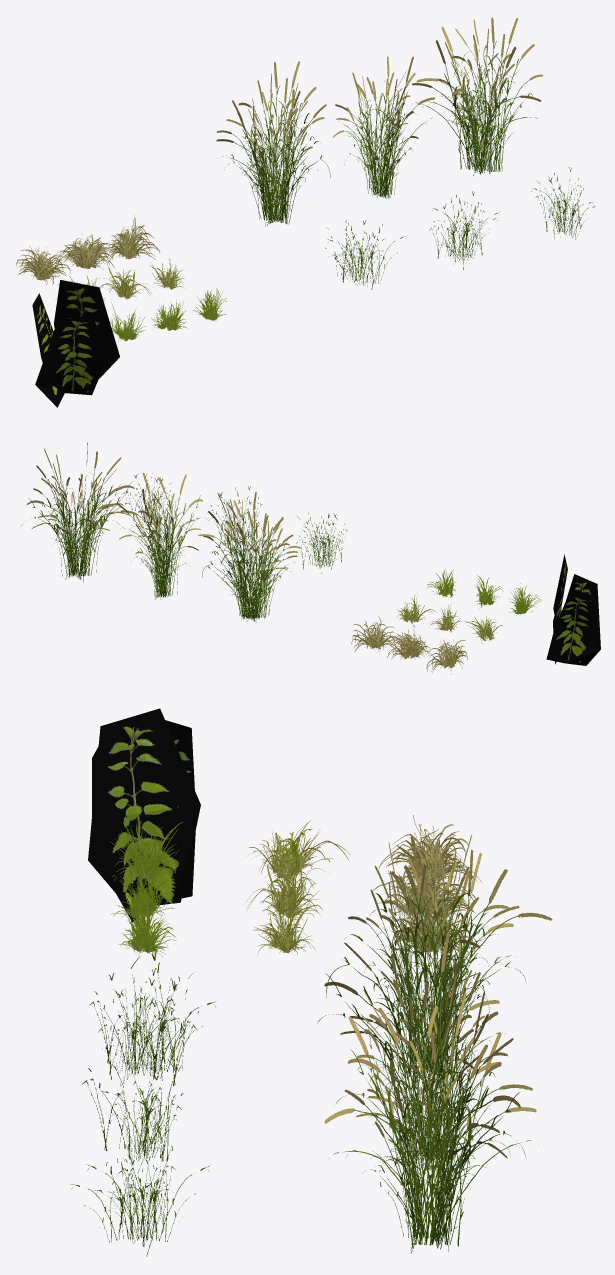
The model's file is grass.fbx.
3 views of the same model, one above another, from view 1: azimuth 30°, elevation 25°; view 2: azimuth 150°, elevation 25°; view 3: azimuth 270°, elevation 25° (orthographic). The views are drawn at different scales.
Visible parts, largest first — view 1: Brennesel, Grass tall high.002, Grass tall high, Grass tall high.001, Grass tall low, Grass main dry.001, Grass tall low.001, Grass main dry.002, Grass main dry, Grass tall low.002, Grass main aged.001, Grass main fresh.001 (+2 smaller); view 2: Grass tall high, Grass tall high.002, Brennesel, Grass tall high.001, Grass tall low, Grass main dry.002, Grass main dry.001, Grass main dry, Grass tall low.001, Grass tall low.002, Grass main fresh, Grass main fresh.001 (+4 smaller); view 3: Brennesel, Grass tall high.002, Grass tall high, Grass tall high.001, Grass tall low, Grass tall low.002, Grass tall low.001, Grass main dry, Grass main fresh, Grass main aged, Grass main dry.001, Grass main aged.001 (+4 smaller).
Part boxes in pixels (box(x1,y1,x2,y2)): Brennesel: box(32, 280, 119, 407); Grass tall high.002: box(412, 17, 542, 175); Grass tall high: box(216, 61, 330, 226); Grass tall high.001: box(332, 56, 434, 198); Grass tall low: box(325, 219, 405, 289); Grass main dry.001: box(55, 233, 114, 270); Grass tall low.001: box(429, 191, 500, 269); Grass main dry.002: box(106, 213, 160, 262); Grass main dry: box(16, 246, 71, 285); Grass tall low.002: box(531, 167, 595, 239); Grass main aged.001: box(94, 267, 151, 299); Grass main fresh.001: box(151, 301, 187, 330); Grass tall high: box(198, 492, 301, 622); Grass tall high.002: box(21, 442, 140, 582); Brennesel: box(546, 554, 600, 665); Grass tall high.001: box(117, 472, 208, 599); Grass tall low: box(296, 513, 347, 573); Grass main dry.002: box(351, 616, 401, 652); Grass main dry.001: box(387, 625, 430, 659); Grass main dry: box(426, 639, 467, 674); Grass tall low.001: box(209, 486, 261, 551); Grass tall low.002: box(122, 473, 172, 528); Grass main fresh: box(509, 583, 541, 615); Grass main fresh.001: box(474, 575, 503, 608); Brennesel: box(88, 708, 200, 922); Grass tall high.002: box(324, 990, 538, 1253); Grass tall high: box(326, 834, 552, 1081); Grass tall high.001: box(317, 931, 507, 1167); Grass tall low: box(89, 950, 215, 1085); Grass tall low.002: box(70, 1136, 210, 1256); Grass tall low.001: box(82, 1045, 183, 1172); Grass main dry: box(378, 815, 481, 885); Grass main fresh: box(110, 821, 183, 884); Grass main aged: box(246, 820, 349, 883); Grass main dry.001: box(373, 859, 475, 926); Grass main aged.001: box(246, 850, 328, 920).
Size of the model in its own units: 4.06 by 1.29 by 1.74.
